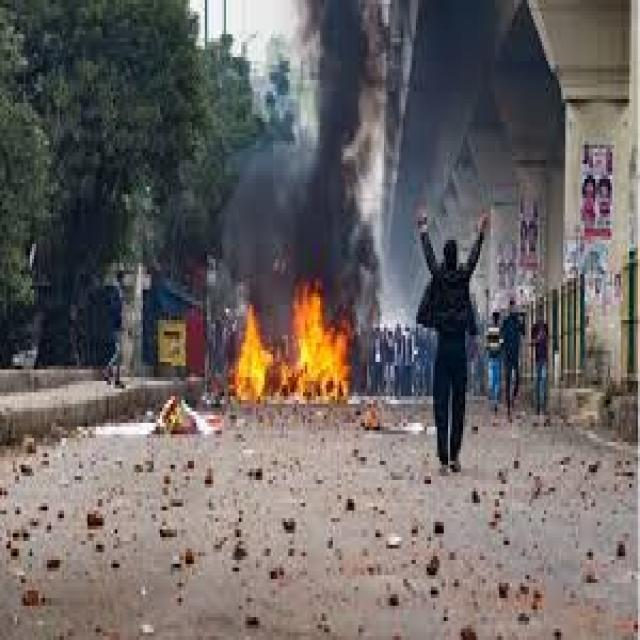Fire: (237, 284, 353, 399)
Smoke: (303, 0, 377, 279), (228, 139, 304, 285)
